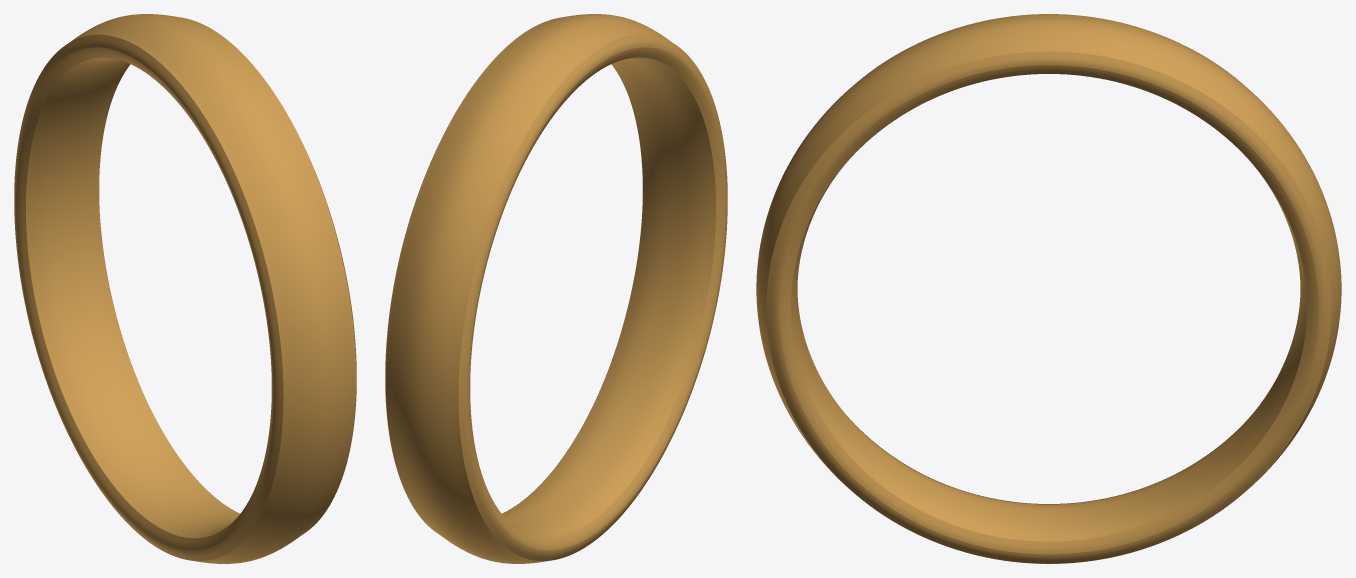
The picture shows the model from 3 angles, left to right: view 1: azimuth 30°, elevation 25°; view 2: azimuth 150°, elevation 25°; view 3: azimuth 270°, elevation 25°; orthographic projection. The views are drawn at different scales.
Visible parts, largest first — view 1: P3-Outer, P3-Inner, P3-Sides; view 2: P3-Outer, P3-Inner, P3-Sides; view 3: P3-Sides, P3-Outer, P3-Inner.
Part boxes in pixels (x1,y1,x2,y2): P3-Outer: (71,14,356,563); P3-Inner: (26,55,239,538); P3-Sides: (14,34,356,561); P3-Outer: (385,14,670,563); P3-Inner: (502,55,715,538); P3-Sides: (385,34,727,561); P3-Sides: (766,38,1331,563); P3-Outer: (756,14,1341,563); P3-Inner: (791,51,1306,541).
Size of the model in its own units: 0.00399 by 0.0238 by 0.0237.
